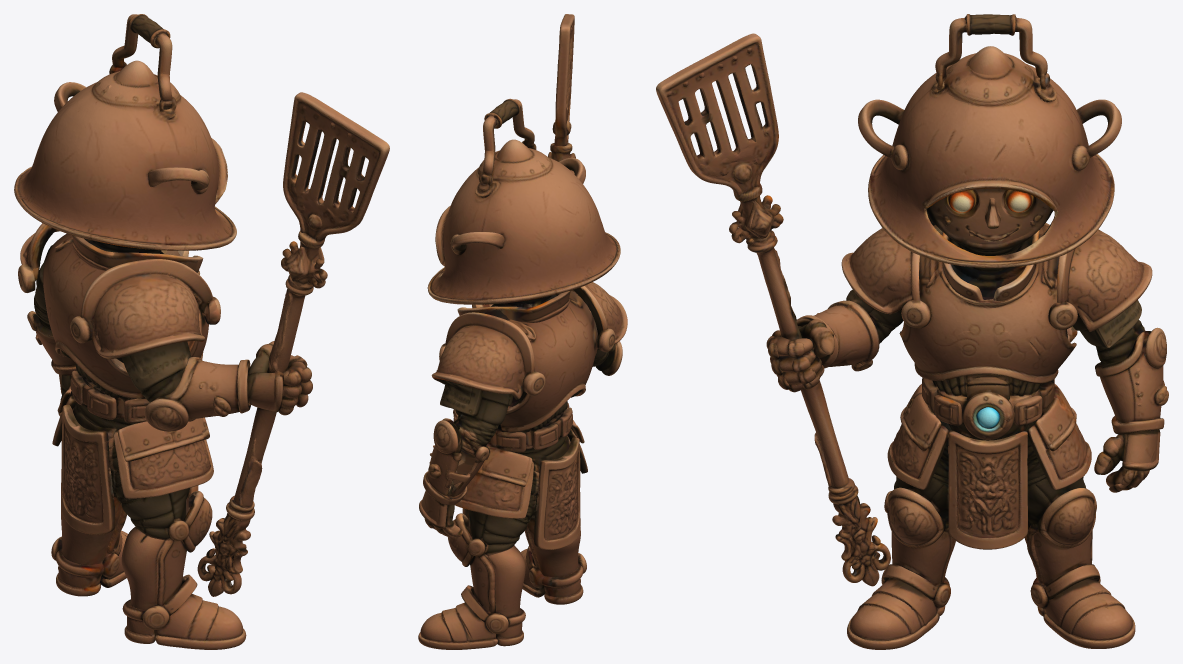
File: wesley.glb
3 views of the same model, side by side, from view 1: azimuth 30°, elevation 25°; view 2: azimuth 150°, elevation 25°; view 3: azimuth 270°, elevation 25° (orthographic). The views are drawn at different scales.
Parts seen in each view (by area): view 1: tripo_node_4139277a-061b-4ccc-9c1a-4af9adf796d6; view 2: tripo_node_4139277a-061b-4ccc-9c1a-4af9adf796d6; view 3: tripo_node_4139277a-061b-4ccc-9c1a-4af9adf796d6.
Part boxes in pixels (<box>): tripo_node_4139277a-061b-4ccc-9c1a-4af9adf796d6: <box>14,14,389,649</box>; tripo_node_4139277a-061b-4ccc-9c1a-4af9adf796d6: <box>418,14,627,649</box>; tripo_node_4139277a-061b-4ccc-9c1a-4af9adf796d6: <box>656,14,1168,649</box>.
Bounding box in the file's own units: 0.3655 × 1 × 0.7538.
Materials: 1 (1 with a texture image).
